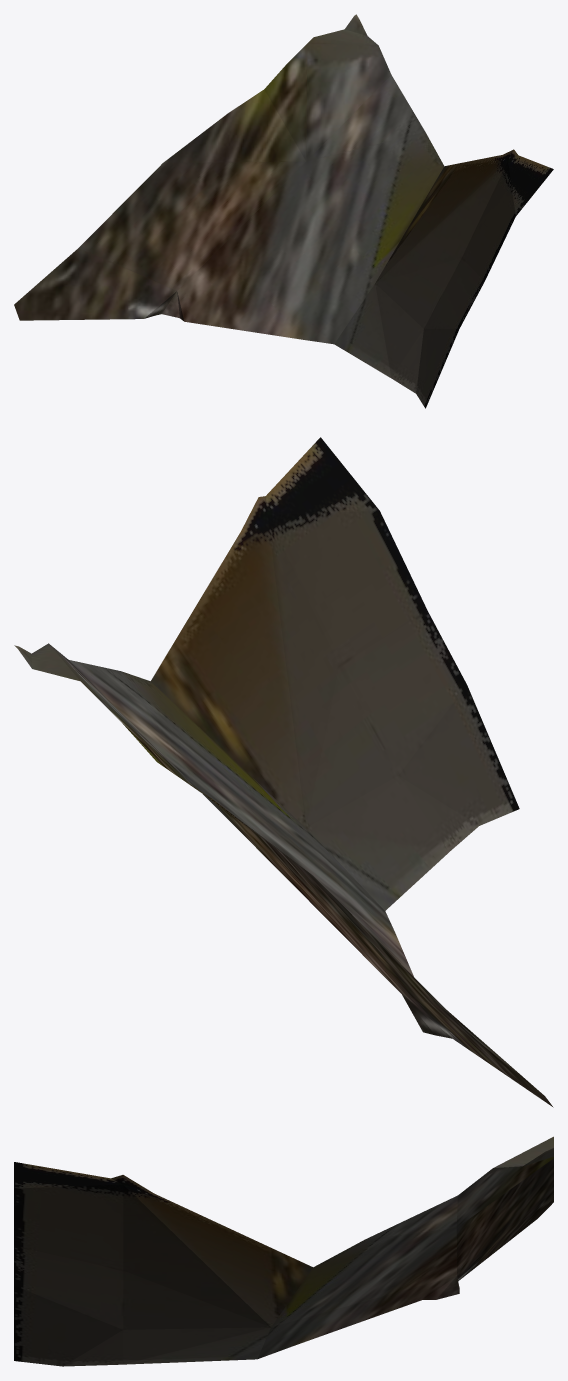
The picture shows the model from 3 angles, top to bottom: view 1: azimuth 30°, elevation 25°; view 2: azimuth 150°, elevation 25°; view 3: azimuth 270°, elevation 25°; orthographic projection. The views are drawn at different scales.
Bounding box in the file's own units: 1.67 × 1.02 × 1.67.
Materials: 2 (2 with a texture image).
